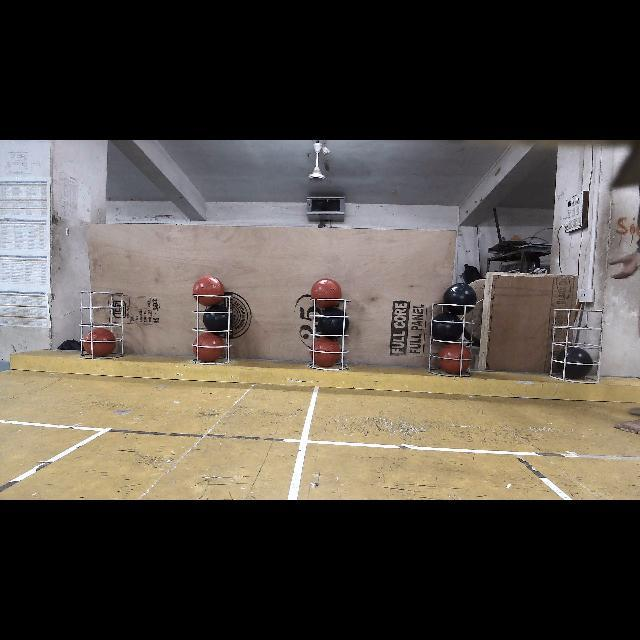P: (556, 346, 592, 380), (444, 282, 476, 315), (311, 279, 341, 309), (202, 305, 234, 333), (432, 314, 463, 342), (317, 308, 348, 336)
R: (309, 337, 341, 368), (84, 328, 116, 358), (439, 343, 471, 373), (193, 333, 225, 362), (311, 279, 341, 309), (192, 275, 225, 296), (195, 296, 222, 306)
S: (551, 306, 607, 388), (298, 292, 354, 370), (432, 298, 482, 377), (81, 284, 131, 358), (192, 288, 234, 364)
